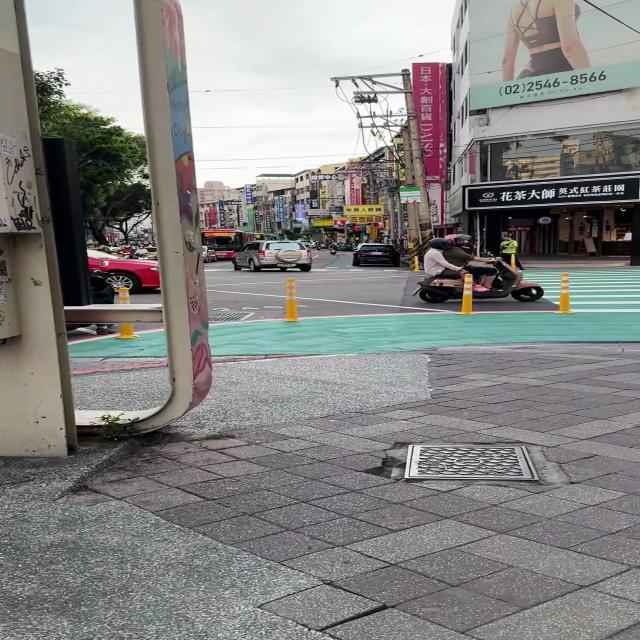Flexible_delineator_post: (282, 279, 300, 321), (556, 272, 574, 313), (457, 274, 474, 315), (117, 324, 139, 338), (117, 288, 130, 303)
bus: (201, 229, 256, 259)
car: (88, 250, 161, 292), (232, 240, 311, 271), (351, 244, 399, 266)
crosswalk: (521, 268, 640, 313)
motocycle: (474, 260, 543, 301), (415, 278, 463, 303)
